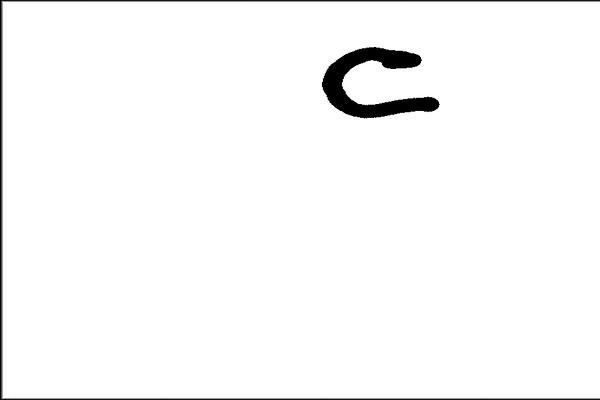C: (316, 40, 441, 121)
